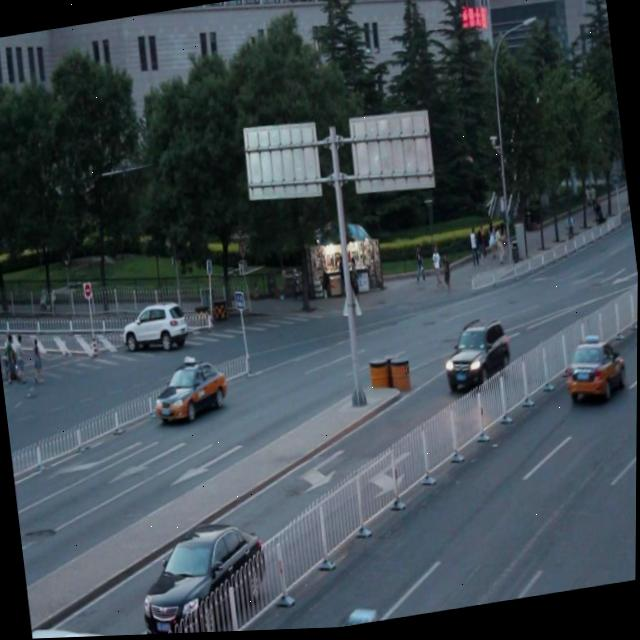car: (134, 517, 274, 636), (151, 358, 232, 432), (438, 321, 514, 395), (560, 339, 625, 409), (119, 299, 191, 360), (32, 617, 117, 639)
